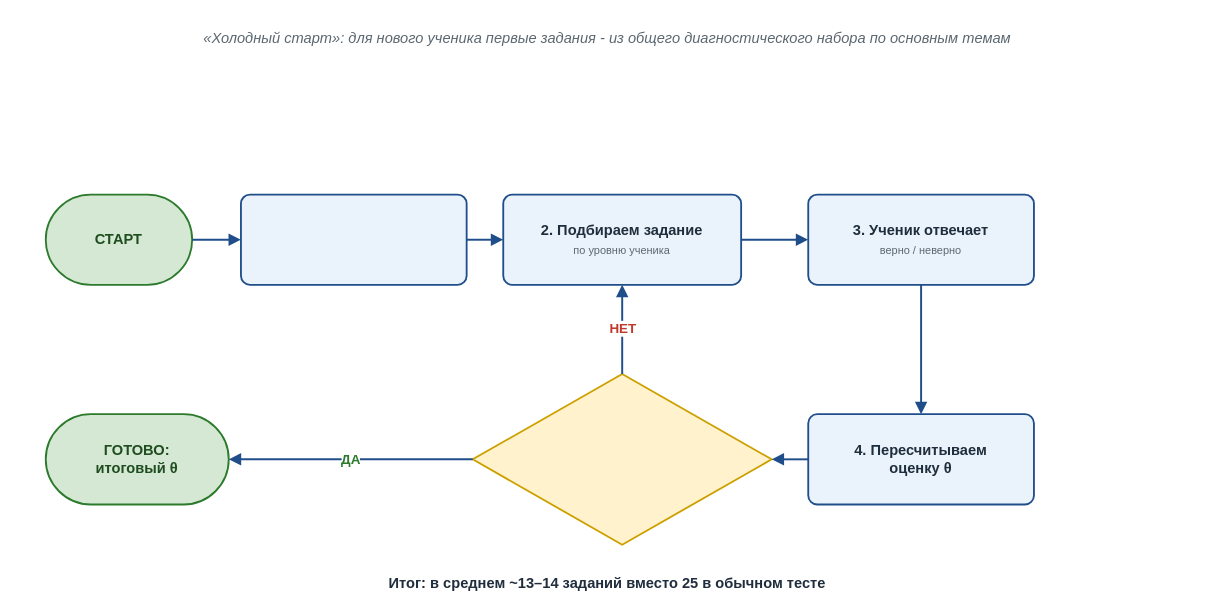
This 1213x616 diagram has some shape labels left out. Each missing label, with the box of its shape:
1. Начальная оценка уровня θ: (239, 193, 467, 285)
Точность достигнута? (или лимит заданий): (471, 372, 772, 545)
